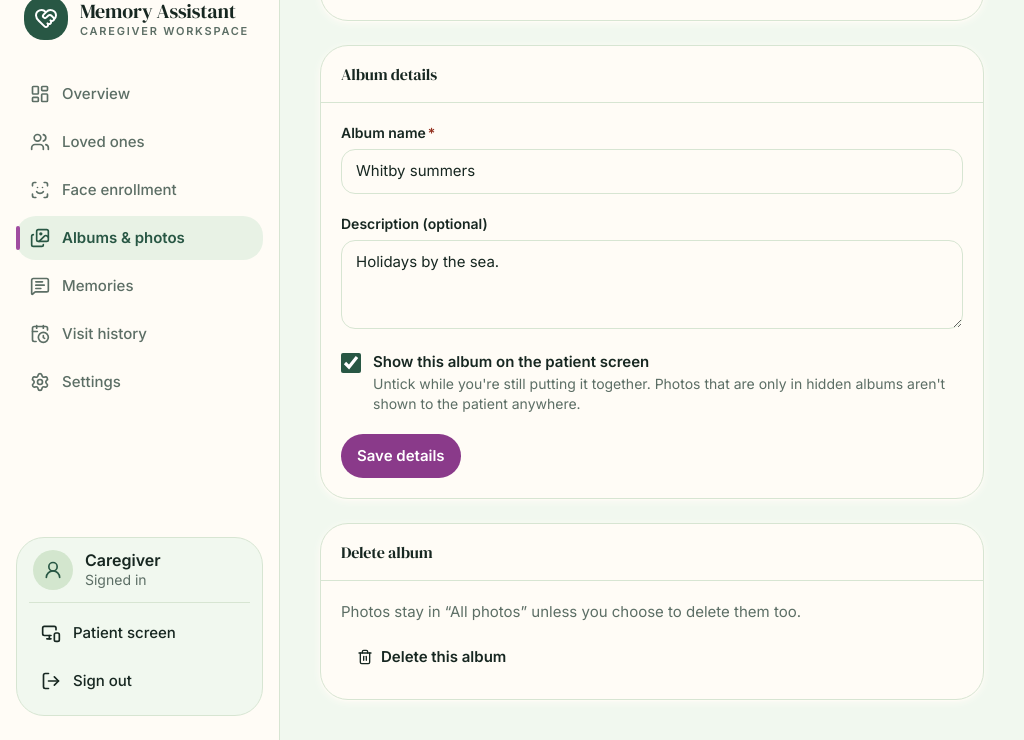
caregiver: albums › deletes the album, optionally with the photos that aren't in another album
(page scrolled)
What coordinates should you click on to do the following:
click the button "Delete this album"
I would click on:
 (432, 658)
Its box is top-left (341, 636), bottom-right (522, 680).
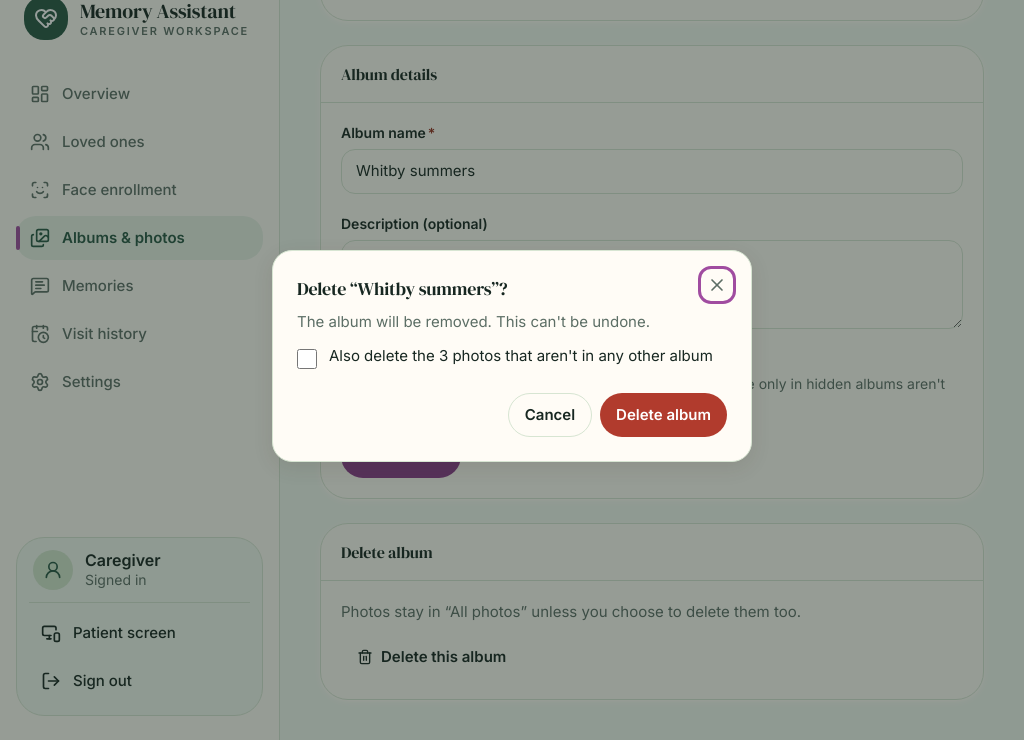
What coordinates should you click on to do the following:
click the checkbox labelled "Also delete the 3 photos that aren't in any other album"
I would click on:
 (307, 359)
Its box is top-left (297, 349), bottom-right (317, 369).
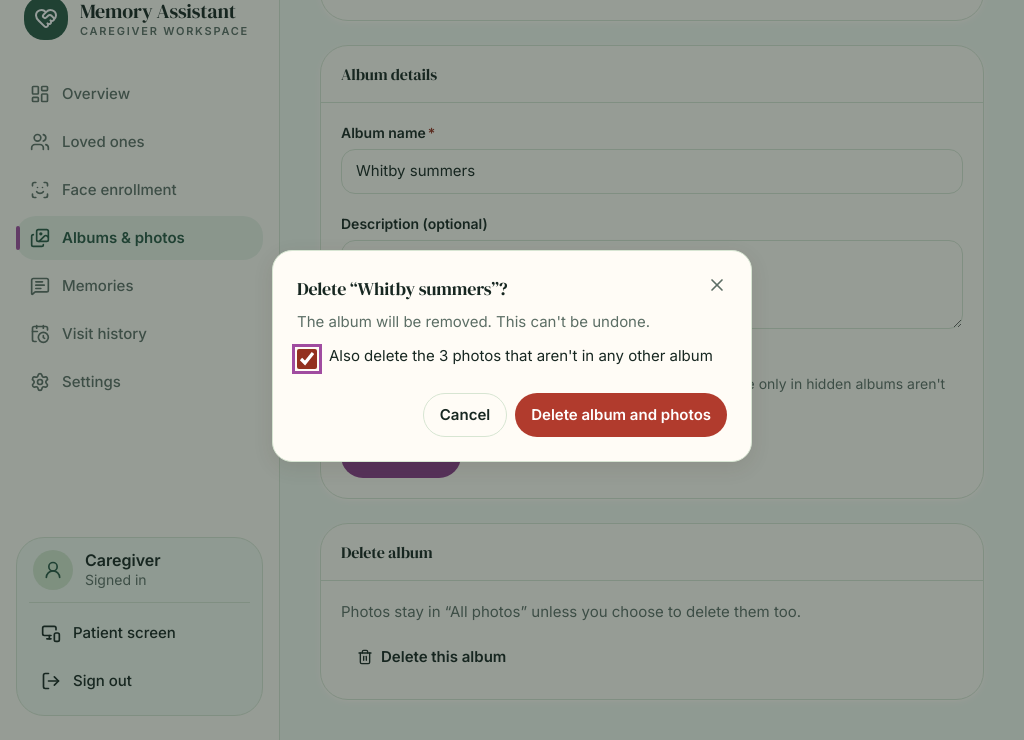
What coordinates should you click on to do the following:
click the button "Delete album and photos"
I would click on:
 (621, 415)
Its box is top-left (515, 393), bottom-right (727, 437).
(page scrolled)
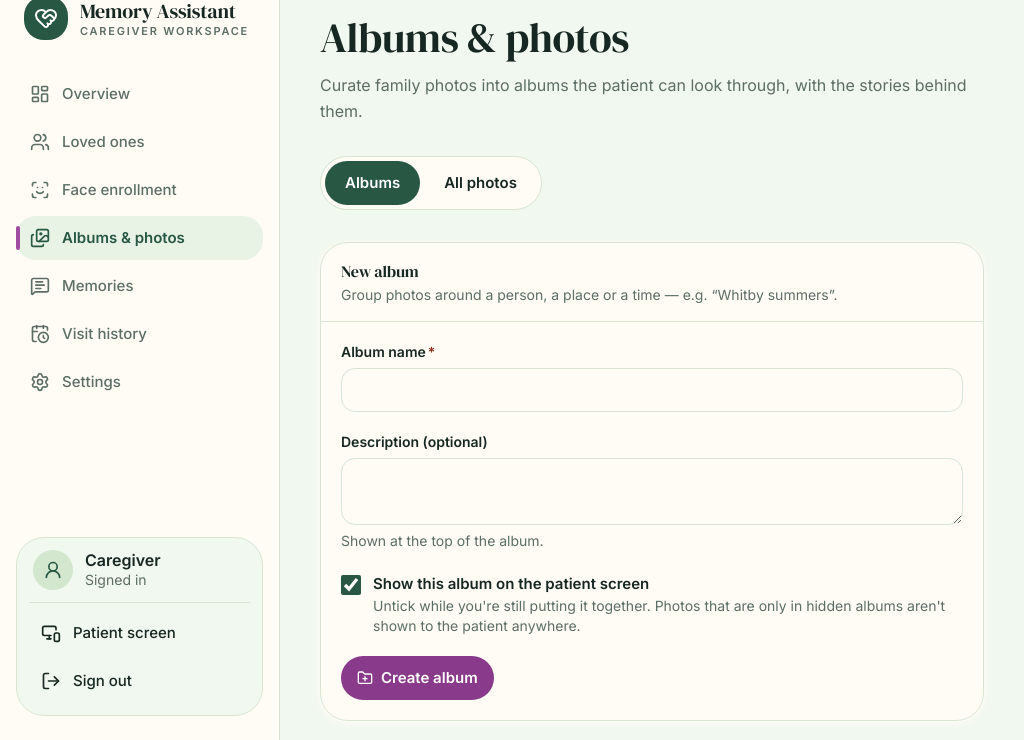
Expected: the heading "Albums & photos" is shown, top-left (320, 9), bottom-right (629, 66)
